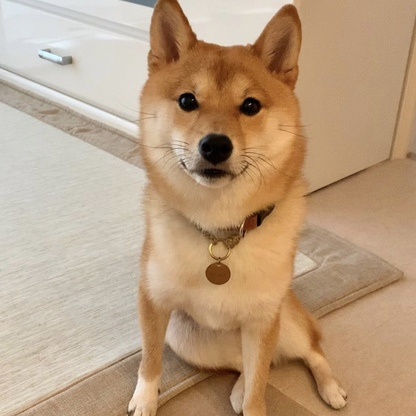shiba: (122, 1, 355, 416)
